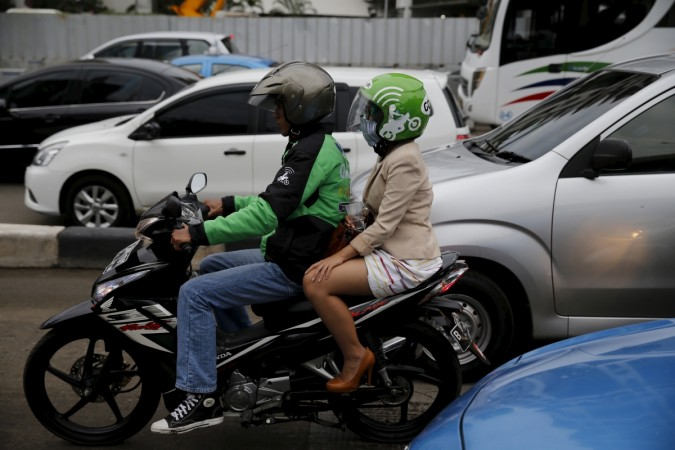with_helmet: (247, 62, 338, 132), (347, 72, 429, 149)
